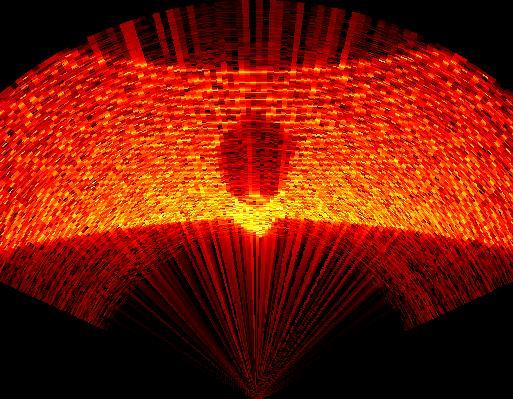box_crate: (218, 108, 294, 209)
